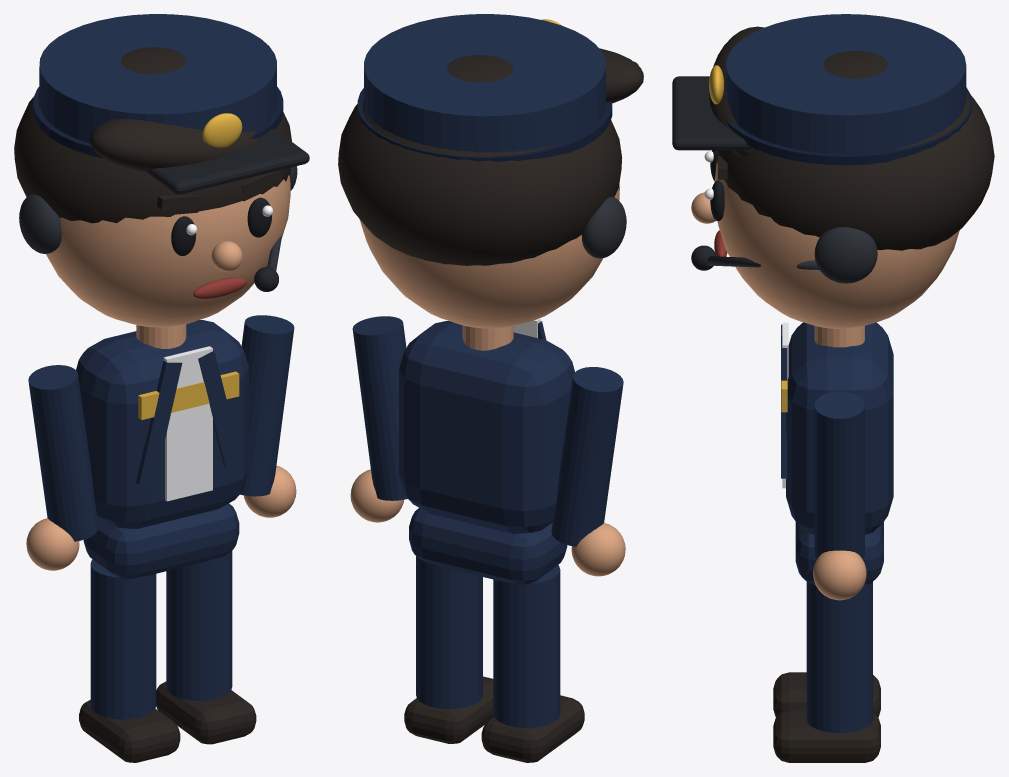
The model's file is piloto.glb.
3 views of the same model, side by side, from view 1: azimuth 30°, elevation 25°; view 2: azimuth 150°, elevation 25°; view 3: azimuth 270°, elevation 25° (orthographic).
Visible parts, largest first — view 1: Cylinder.005, Sphere.002, Cube.003, Sphere.011, Cylinder, Cylinder.001, Cylinder.002, Cube.002, Cylinder.003, Sphere.012, Cube.004, Cube.009 (+18 smaller); view 2: Cube.003, Sphere.011, Cylinder.005, Sphere.002, Cylinder, Cylinder.001, Cylinder.002, Cube.002, Cylinder.003, Cube, Cube.001, Cylinder.006 (+5 smaller); view 3: Cylinder.005, Sphere.011, Sphere.002, Cube.003, Cylinder.001, Cylinder.003, Cube.001, Cube.009, Sphere.015, Cylinder.006, Sphere.001, Cube.002 (+5 smaller).
Part boxes in pixels (box(x1,y1,x2,y2)): Cylinder.005: box(39, 14, 276, 143); Sphere.002: box(46, 175, 290, 327); Cube.003: box(76, 320, 248, 528); Sphere.011: box(14, 47, 291, 223); Cylinder: box(90, 559, 156, 719); Cylinder.001: box(166, 551, 232, 700); Cylinder.002: box(28, 365, 99, 541); Cube.002: box(83, 503, 239, 578); Cylinder.003: box(240, 315, 294, 496); Sphere.012: box(90, 119, 258, 171); Cube.004: box(163, 346, 212, 501); Cube.009: box(146, 128, 309, 194); Cube.003: box(399, 321, 574, 533); Sphere.011: box(338, 55, 621, 265); Cylinder.005: box(364, 14, 605, 152); Sphere.002: box(359, 184, 619, 328); Cylinder: box(493, 565, 560, 727); Cylinder.001: box(416, 556, 482, 709); Cylinder.002: box(551, 367, 623, 546); Cube.002: box(409, 508, 567, 584); Cylinder.003: box(352, 316, 407, 500); Cube: box(481, 695, 584, 762); Cube.001: box(404, 676, 493, 743); Cylinder.006: box(357, 88, 612, 161); Cylinder.005: box(726, 14, 966, 153); Sphere.011: box(716, 51, 994, 250); Sphere.002: box(714, 162, 959, 328); Cube.003: box(786, 322, 893, 534); Cylinder.001: box(806, 582, 872, 733); Cylinder.003: box(814, 391, 864, 558); Cube.001: box(773, 709, 880, 762); Cube.009: box(672, 76, 752, 150); Sphere.015: box(814, 227, 877, 283); Cylinder.006: box(725, 87, 972, 165); Sphere.001: box(813, 550, 866, 600); Cube.002: box(795, 522, 883, 584).
Bounding box in the file's own units: 0.98 × 2.35 × 1.02.
